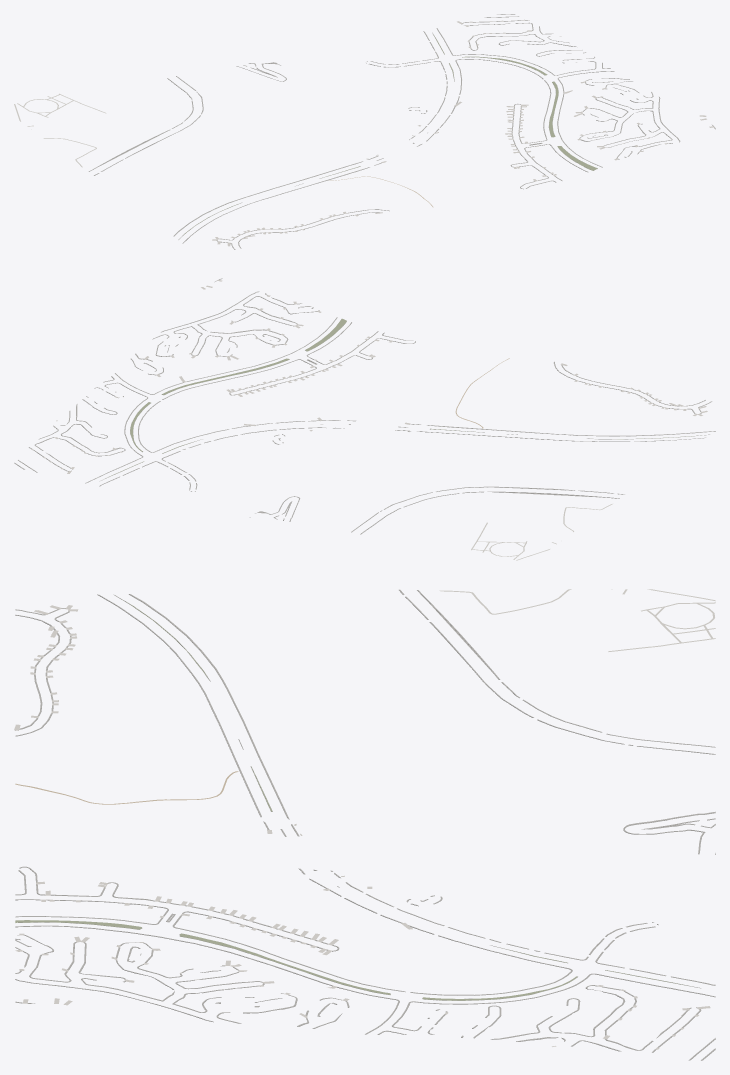
Rendered from ground_r4_c7.glb.
3 views of the same model, one above another, from view 1: azimuth 30°, elevation 25°; view 2: azimuth 150°, elevation 25°; view 3: azimuth 270°, elevation 25° (orthographic). The views are drawn at different scales.
Parts seen in each view (by area): view 1: sidewalks, driveways, medians, paths; view 2: sidewalks, driveways, medians, paths; view 3: sidewalks, driveways, medians, paths.
Part boxes in pixels (left/top/right/bottom): sidewalks: left=88, top=14, right=715, bottom=249; driveways: left=212, top=19, right=714, bottom=246; medians: left=180, top=33, right=597, bottom=237; paths: left=14, top=93, right=433, bottom=207; sidewalks: left=14, top=278, right=715, bottom=534; driveways: left=31, top=279, right=707, bottom=473; medians: left=103, top=318, right=702, bottom=479; paths: left=334, top=358, right=612, bottom=560; sidewalks: left=15, top=589, right=715, bottom=1060; driveways: left=14, top=605, right=710, bottom=1049; medians: left=15, top=596, right=698, bottom=1000; paths: left=15, top=589, right=715, bottom=876.
Bounding box in the file's own units: 1134 × 73.29 × 789.
